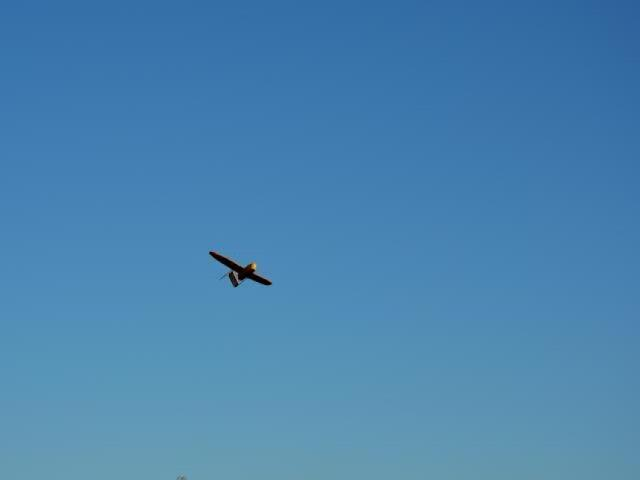iha: (209, 252, 276, 292)
